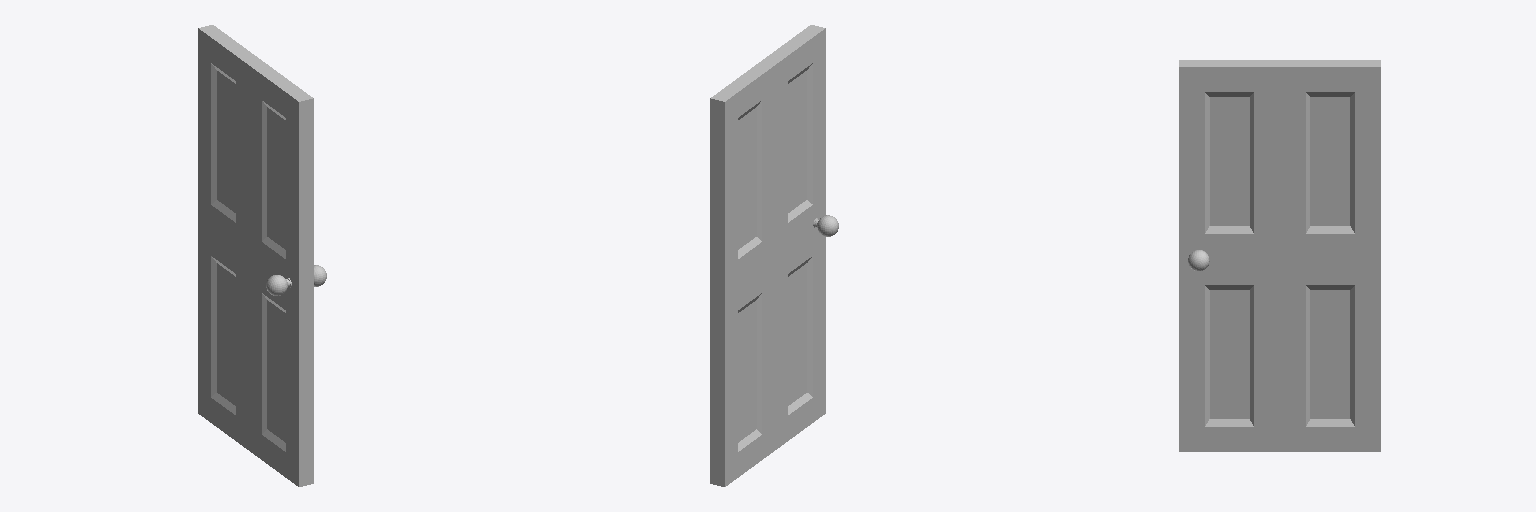
The model's file is Door.obj.
3 views of the same model, side by side, from view 1: azimuth 30°, elevation 25°; view 2: azimuth 150°, elevation 25°; view 3: azimuth 270°, elevation 25° (orthographic).
Parts seen in each view (by area): view 1: Box005_Box005; view 2: Box005_Box005; view 3: Box005_Box005.
Boxes of the visible parts, <box> form: Box005_Box005: <box>198,25,326,486</box>; Box005_Box005: <box>710,25,838,486</box>; Box005_Box005: <box>1179,60,1380,451</box>.
Bounding box in the file's own units: 0.0629 × 0.4004 × 0.1898.